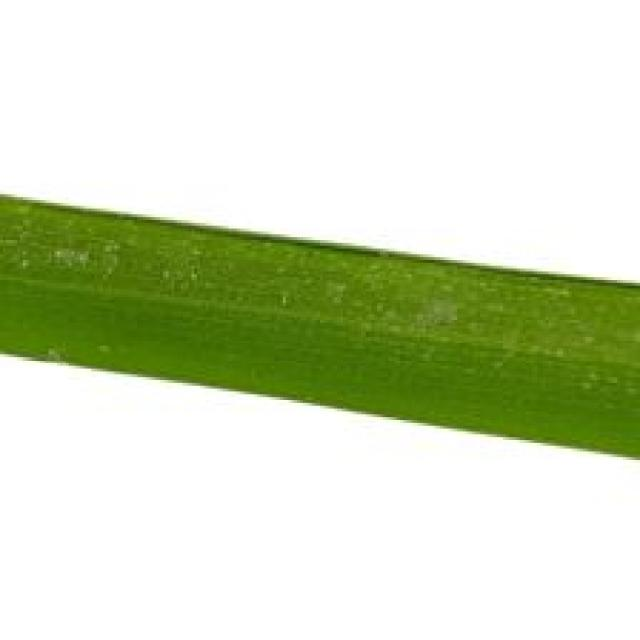Rice___Healthy_Rice_Plant: (0, 192, 637, 465)
